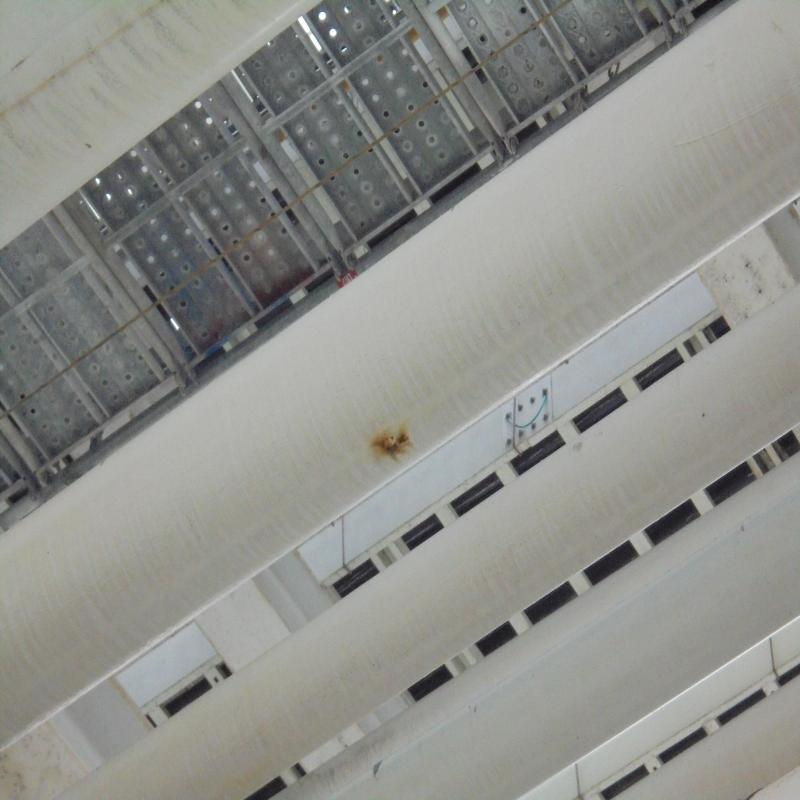corrosion: (369, 420, 418, 461)
